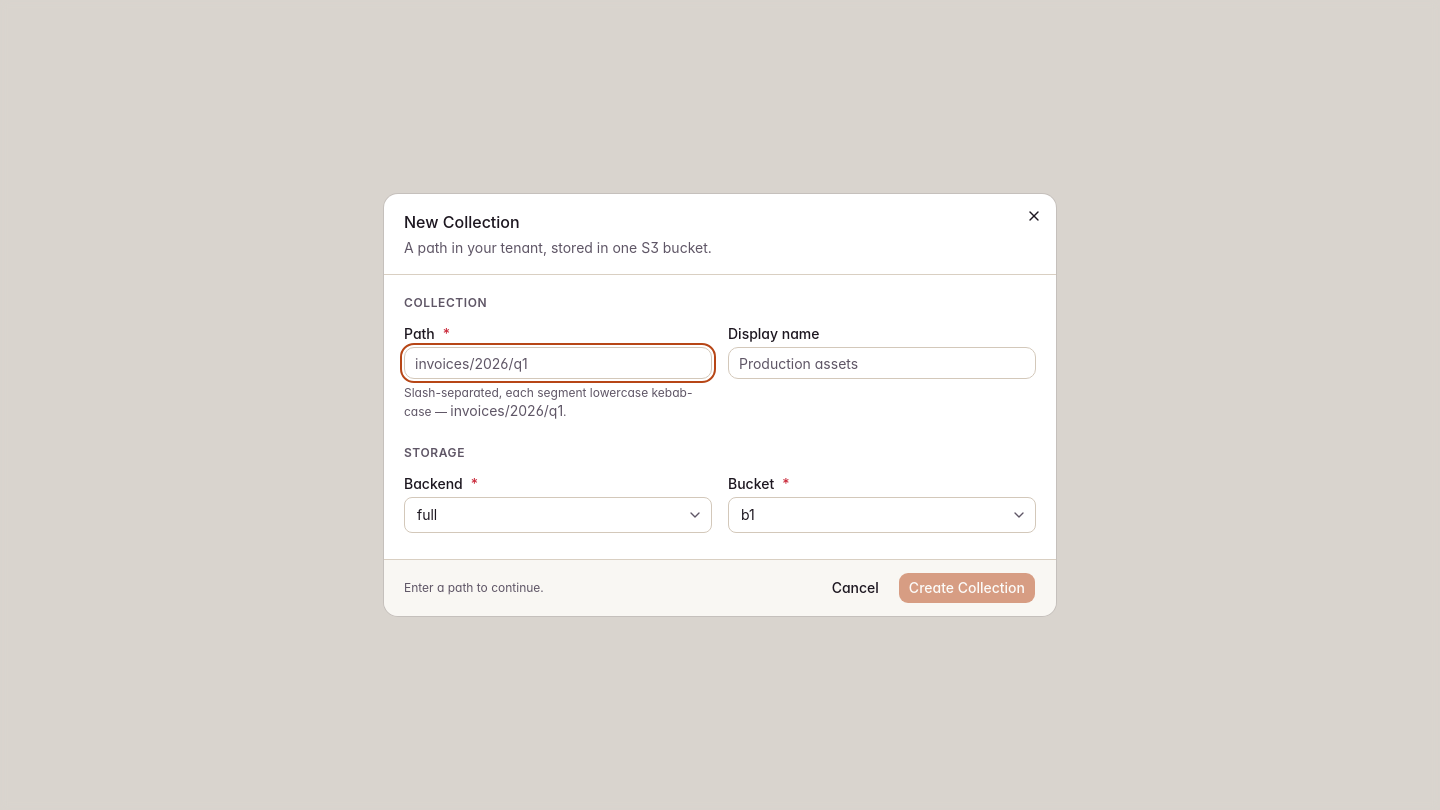
Test: CollectionCreateDialog › drops a refusal once the form changes
Type "x" into the field labelled "Path *" at (558, 363), box [404,347,712,379]
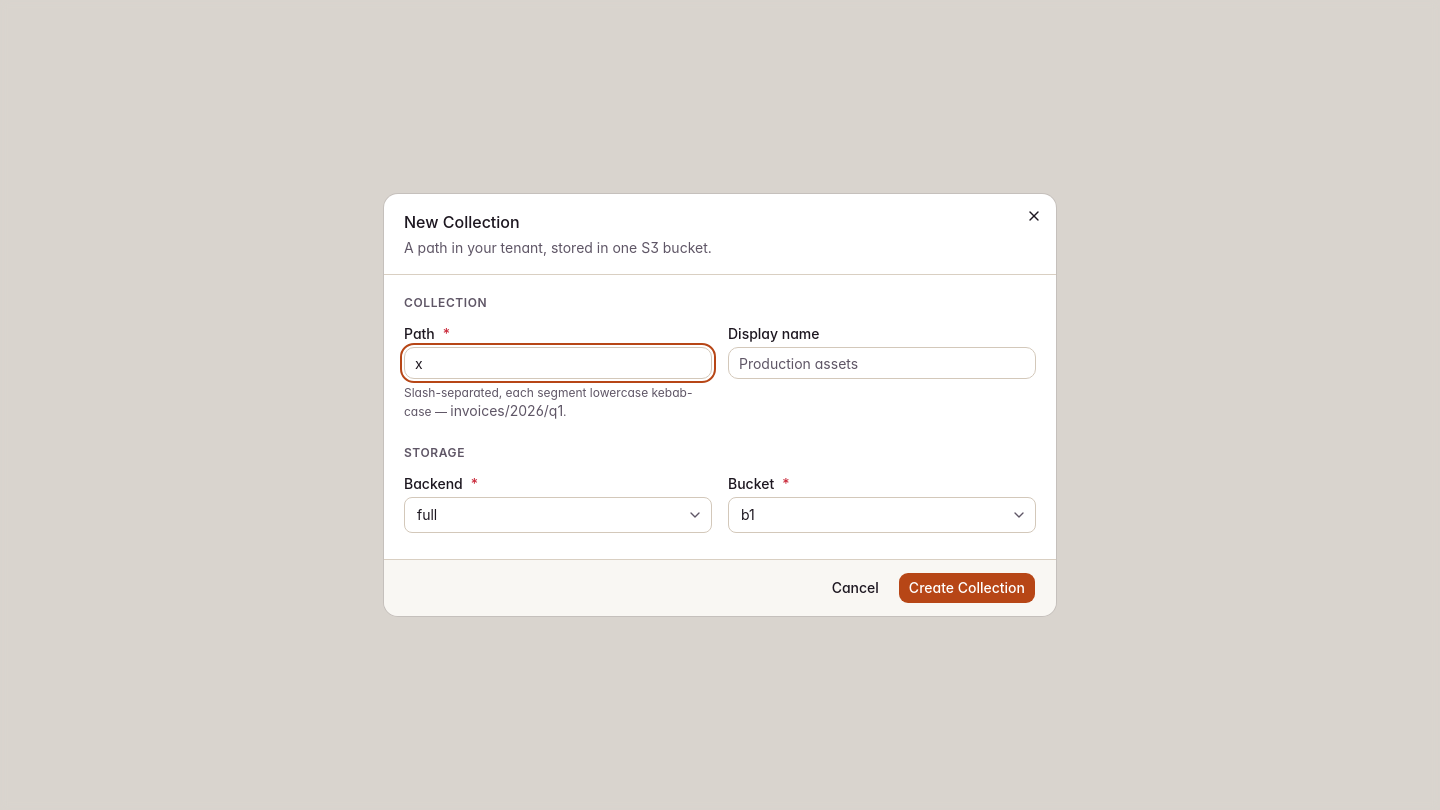
Submit the form, box [384,194,1056,616]
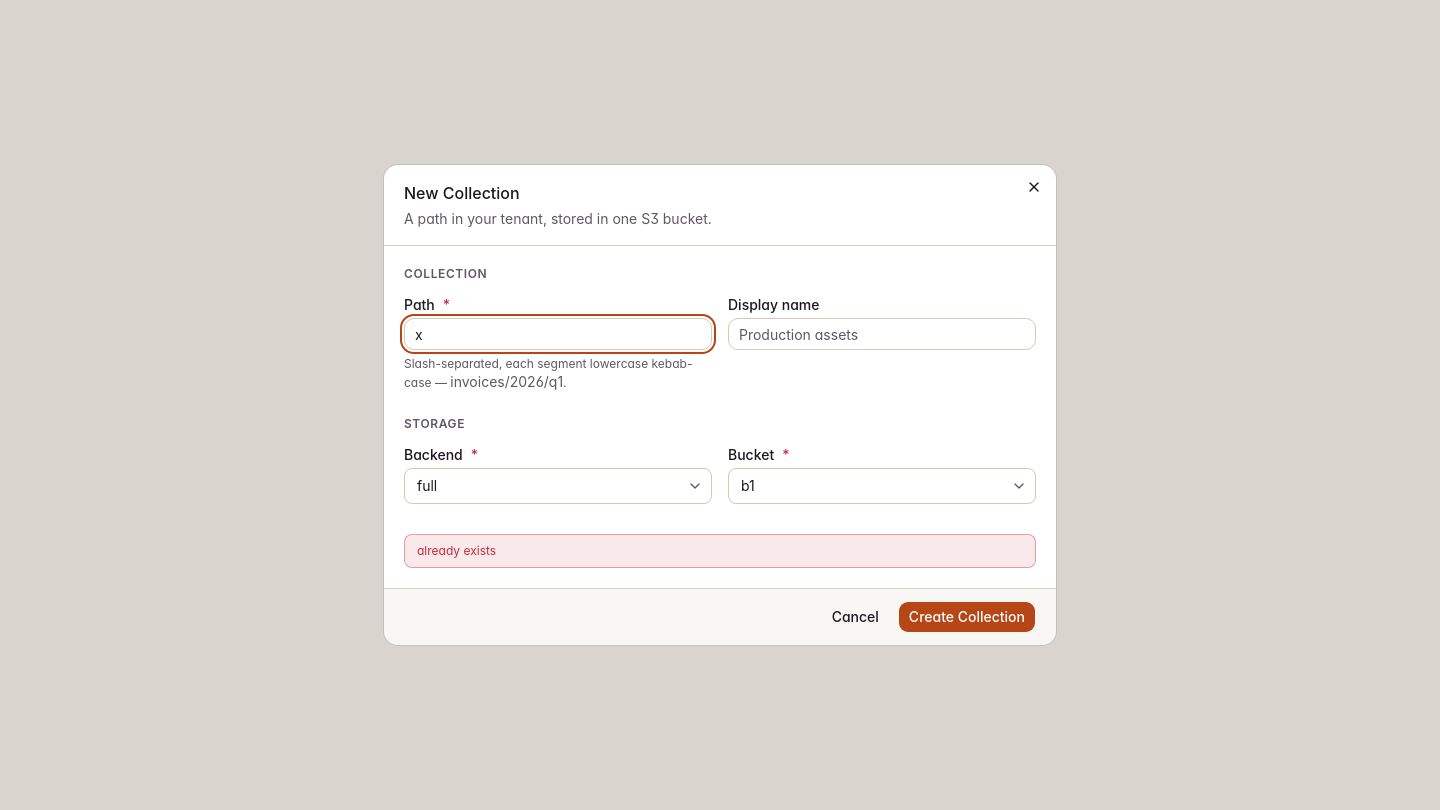
Now the message reads "already exists", box [417,543,496,558]
Replace the text in the field labelled "Path *" with "y" at (558, 334), box [404,318,712,350]
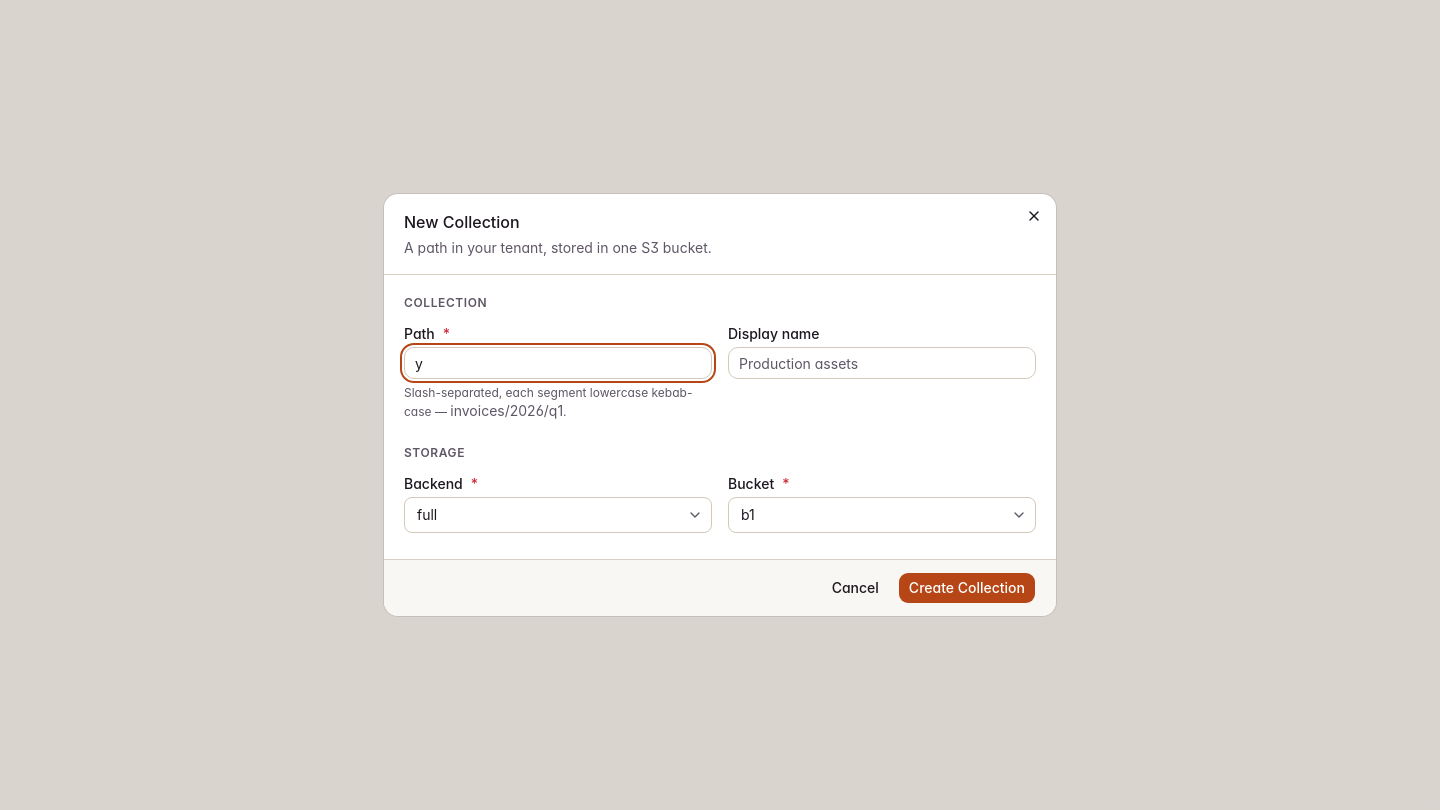
Now the text "already exists" is gone
